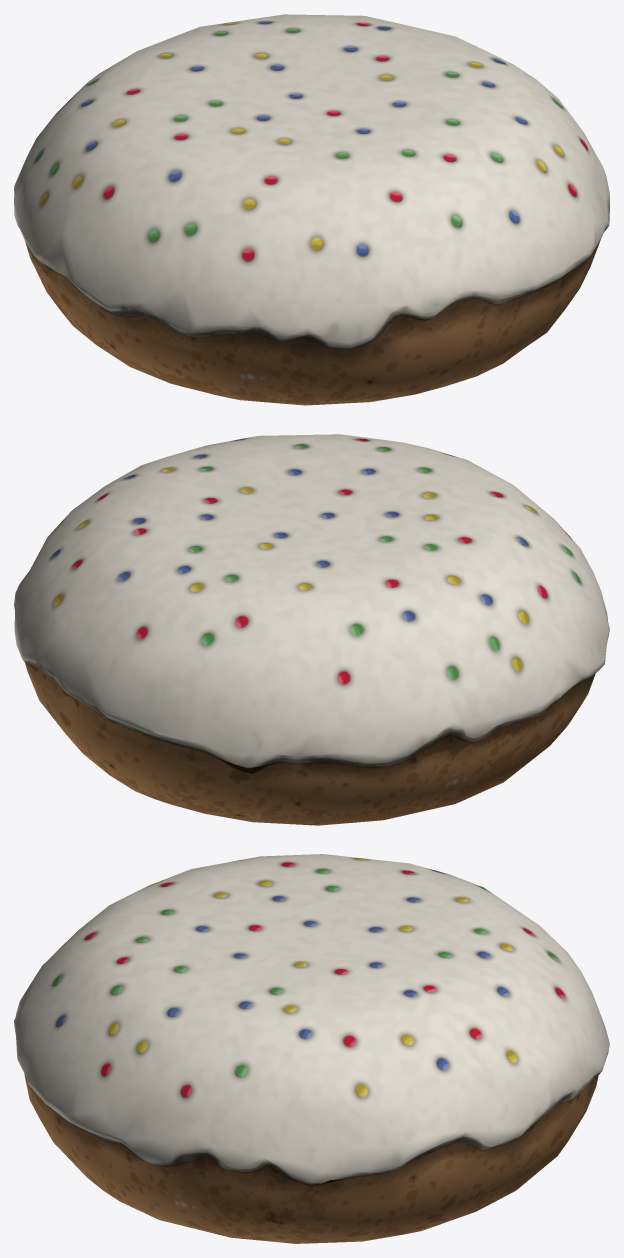
File: s_doughnut_vanilla.fbx
3 views of the same model, one above another, from view 1: azimuth 30°, elevation 25°; view 2: azimuth 150°, elevation 25°; view 3: azimuth 270°, elevation 25° (orthographic).
Parts seen in each view (by area): view 1: s_doughnut_vanilla; view 2: s_doughnut_vanilla; view 3: s_doughnut_vanilla.
Boxes of the visible parts, <box> form: s_doughnut_vanilla: <box>14,14,609,405</box>; s_doughnut_vanilla: <box>14,434,609,825</box>; s_doughnut_vanilla: <box>14,854,609,1243</box>.
Bounding box in the file's own units: 34.81 × 15.36 × 34.92.
